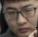without_mask: (2, 1, 38, 37)
